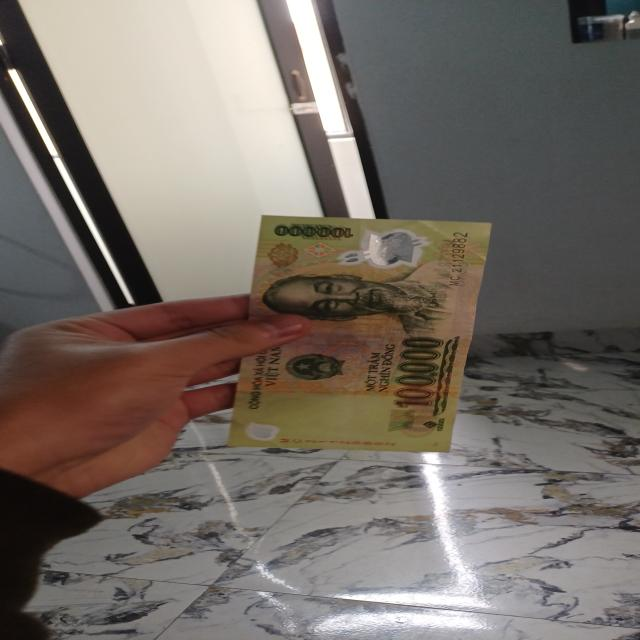100 000 VND: (209, 197, 499, 465)
